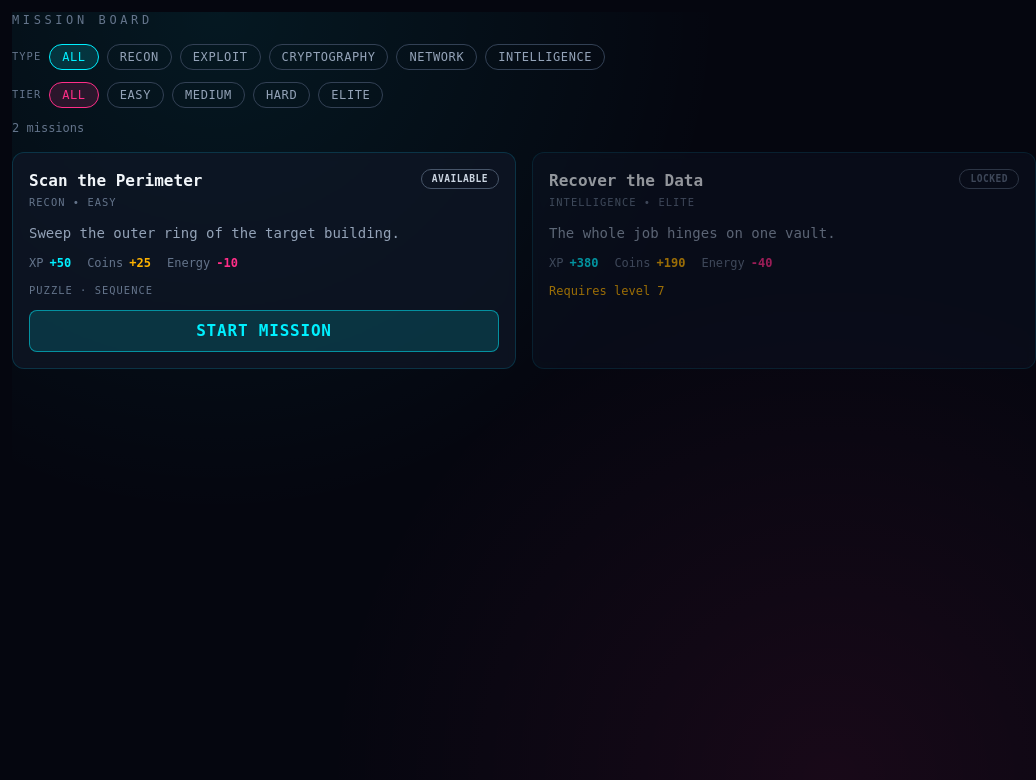
MissionBoard › filters the board by difficulty
This screenshot has width=1036, height=780.
Check: the heading "Scan the Perimeter" is shown, box [29,169,202,193]
Click the button "ELITE": (351, 95) [318,82,383,108]
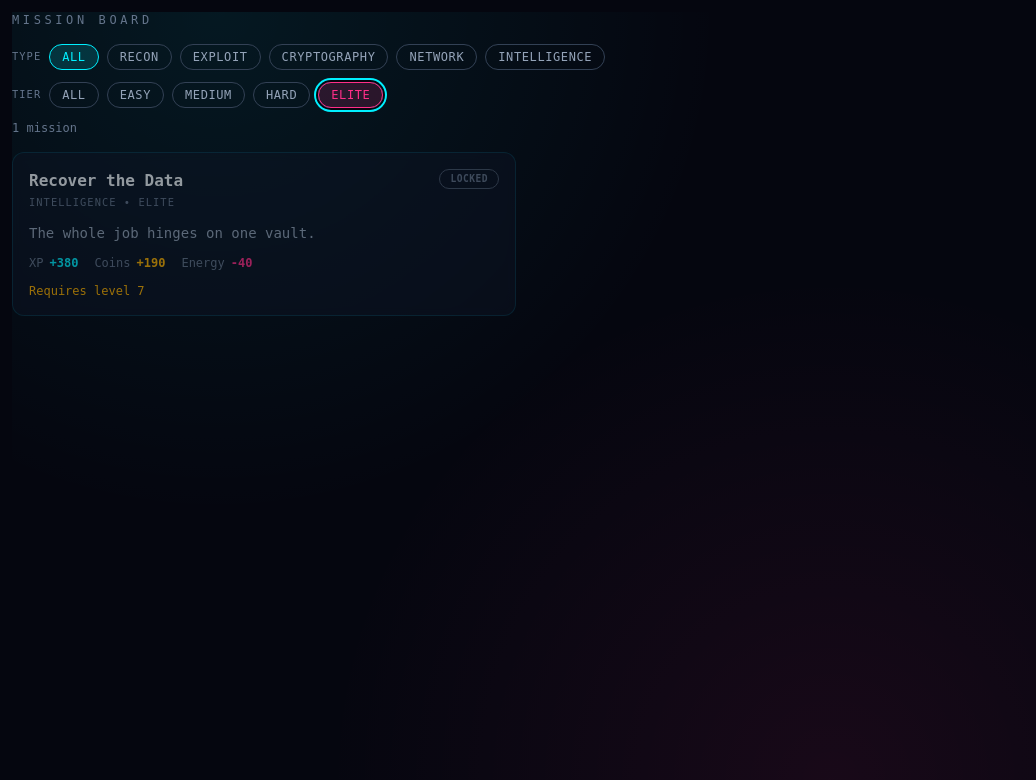
Check: the heading "Recover the Data" is shown, box [29,169,183,193]
Check: the heading "Scan the Perimeter" is gone
